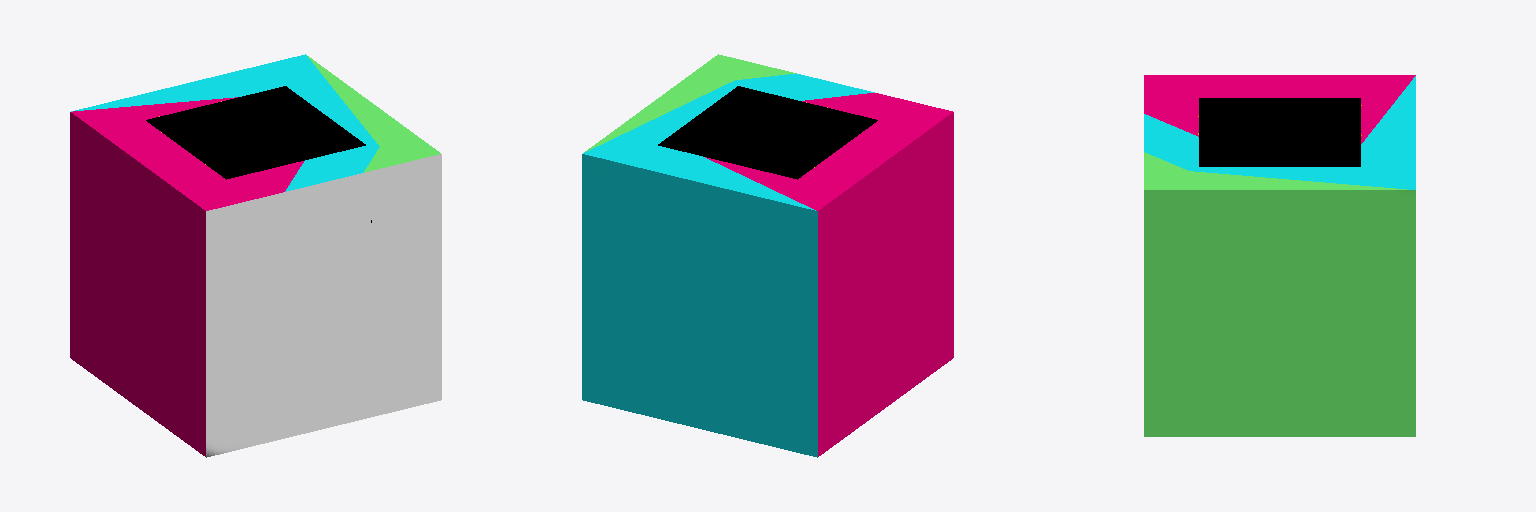
3 views of the same model, side by side, from view 1: azimuth 30°, elevation 25°; view 2: azimuth 150°, elevation 25°; view 3: azimuth 270°, elevation 25° (orthographic).
Parts seen in each view (by area): view 1: Cube; view 2: Cube; view 3: Cube.
Boxes of the visible parts, x1=… form: Cube: x1=70, y1=54, x2=441, y2=457; Cube: x1=582, y1=54, x2=953, y2=457; Cube: x1=1144, y1=75, x2=1415, y2=436.
Bounding box in the file's own units: 2 × 2 × 2.
Materials: 1 (1 with a texture image).